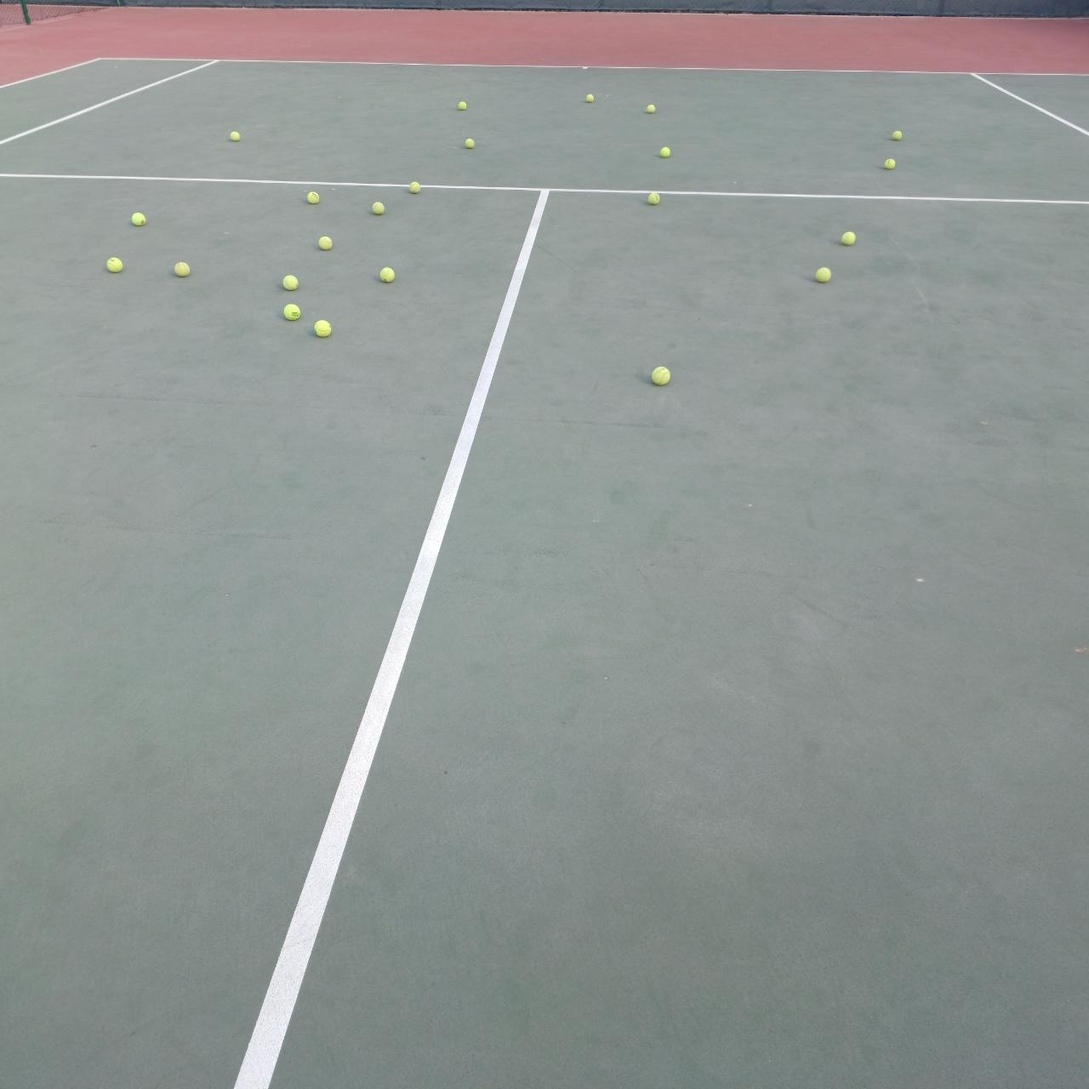tennis-ball: (650, 365, 672, 387), (312, 317, 332, 337), (282, 301, 300, 321), (105, 254, 123, 272), (378, 266, 396, 284), (281, 272, 299, 290), (173, 259, 191, 277), (814, 265, 831, 283), (129, 210, 146, 226), (840, 230, 855, 246), (370, 199, 385, 215), (318, 236, 333, 251), (306, 192, 320, 204), (648, 193, 660, 205), (409, 182, 420, 194), (229, 131, 241, 142), (660, 147, 671, 158), (891, 130, 902, 141), (885, 158, 895, 170), (465, 138, 475, 149), (646, 104, 655, 113), (586, 94, 594, 102), (459, 102, 467, 110)
